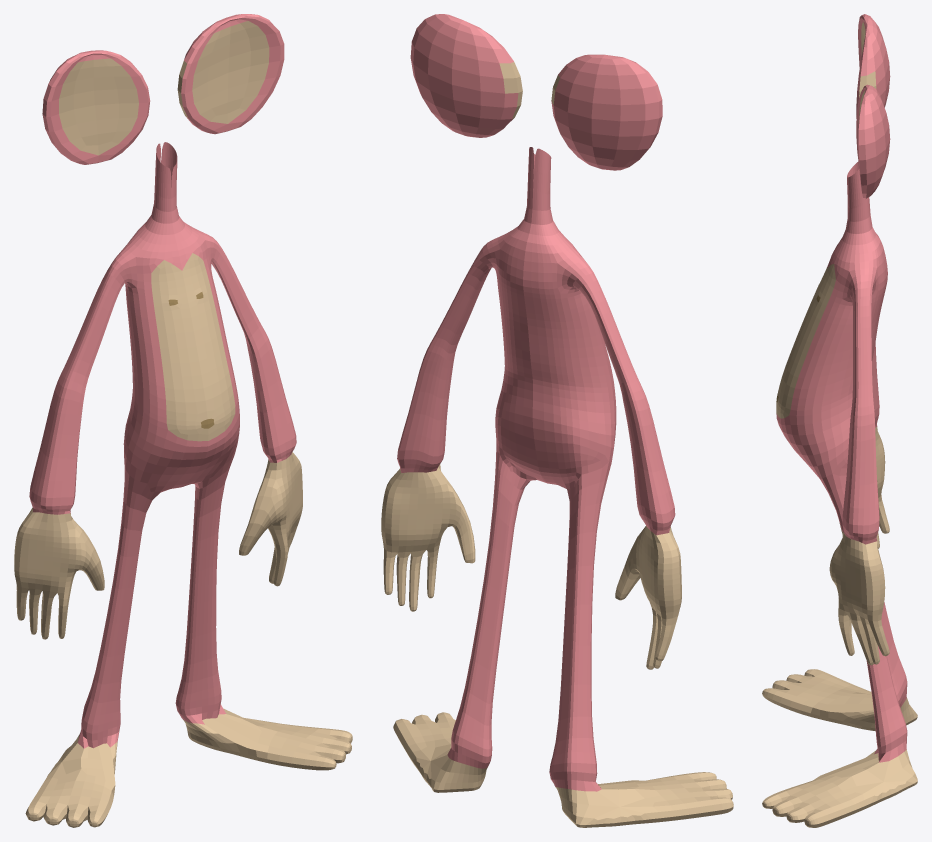
3 renders of one model, left to right at view 1: azimuth 30°, elevation 25°; view 2: azimuth 150°, elevation 25°; view 3: azimuth 270°, elevation 25°, orthographic. The views are drawn at different scales.
Visible parts, largest first — view 1: body; view 2: body; view 3: body.
Boxes of the visible parts, <box> form: body: <box>14,14,352,827</box>; body: <box>381,14,733,827</box>; body: <box>762,14,917,827</box>.
Size of the model in its own units: 2.13 by 4.57 by 0.9215.
